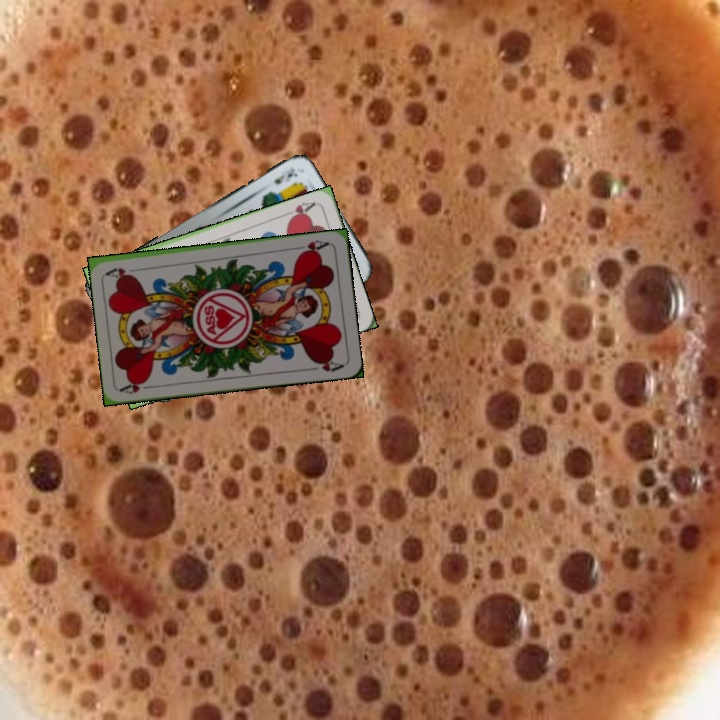EK: (269, 164, 299, 187)
HA: (280, 198, 318, 223), (292, 236, 332, 257), (118, 376, 158, 396)
